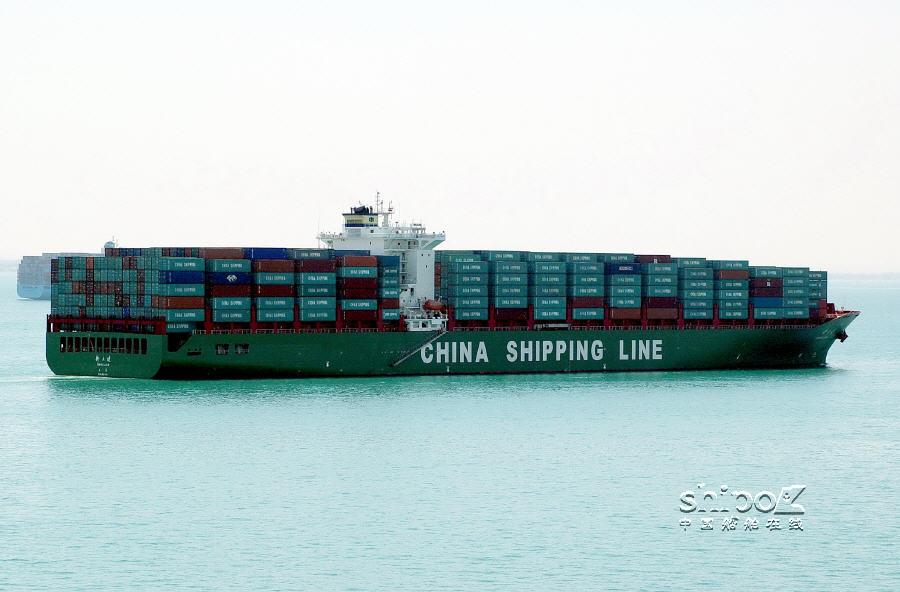Cargoship: (40, 196, 864, 382), (9, 243, 113, 306)
